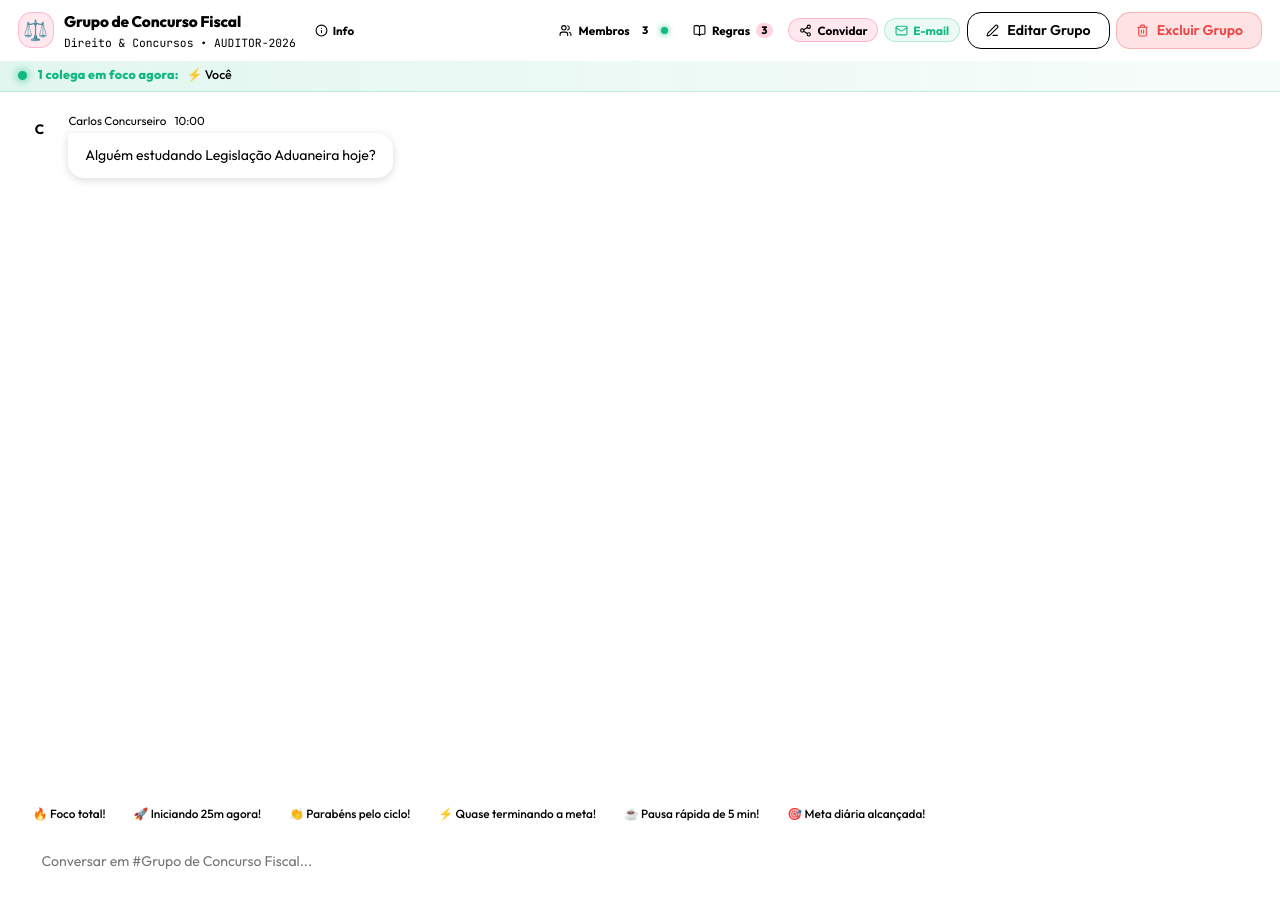
Test: Moderação de Grupos: Regras, Admin, Convite por E-mail, Edição e Remoção de Membros › deve abrir o modal de Regras do Grupo e listar todas as regras configuradas
Click the button "Regras 3": coordinates (733, 30) x1=684 y1=19 x2=783 y2=41
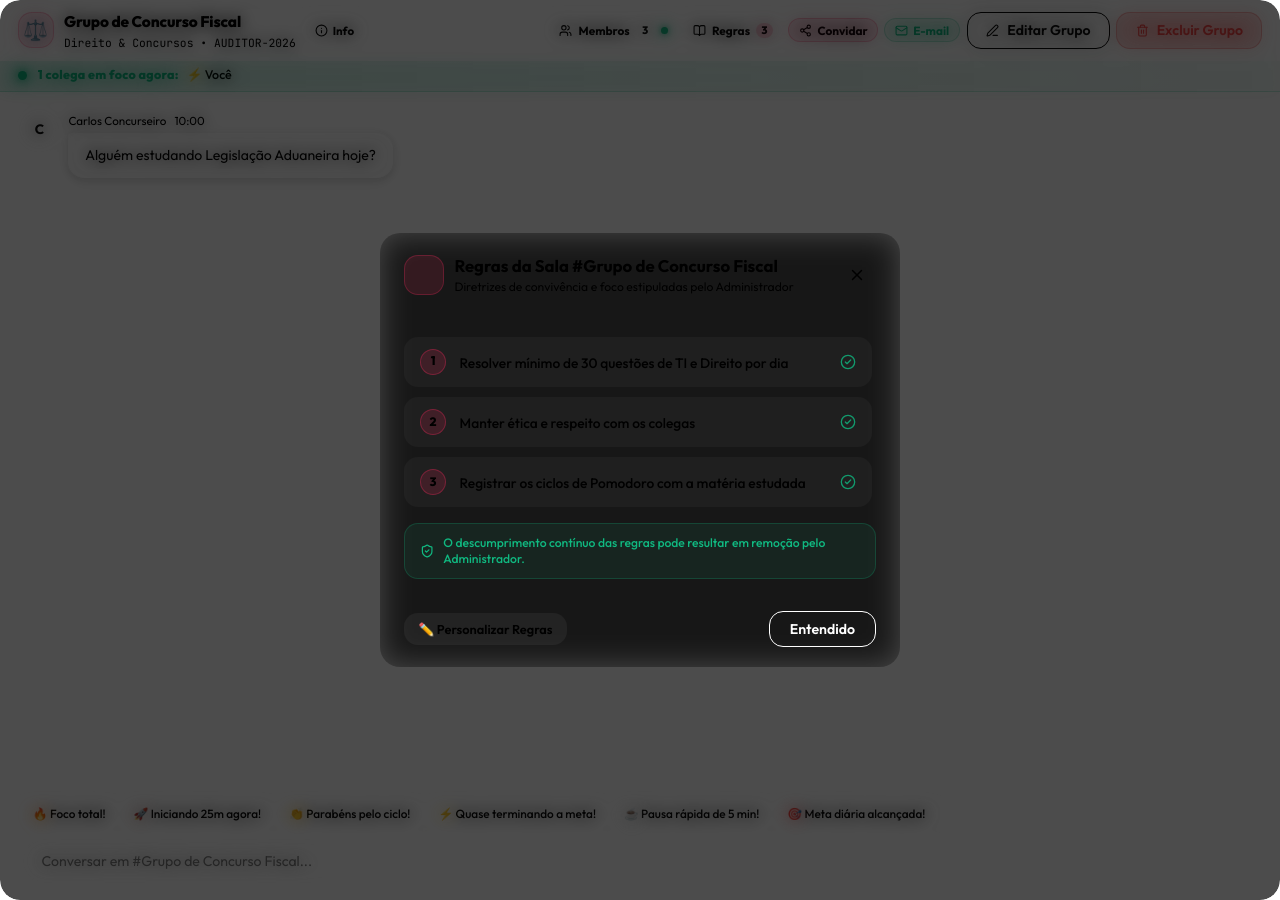
Expected: the heading "Regras da Sala #Grupo de Concurso Fiscal" is shown, x1=454 y1=253 x2=794 y2=278
Expected: the text "Resolver mínimo de 30 questões de TI e Direito por dia" is shown, x1=460 y1=354 x2=788 y2=372
Expected: the text "Manter ética e respeito com os colegas" is shown, x1=460 y1=414 x2=695 y2=432
// Fecha o modal
Click the button "Entendido": coordinates (822, 629) x1=769 y1=611 x2=876 y2=647
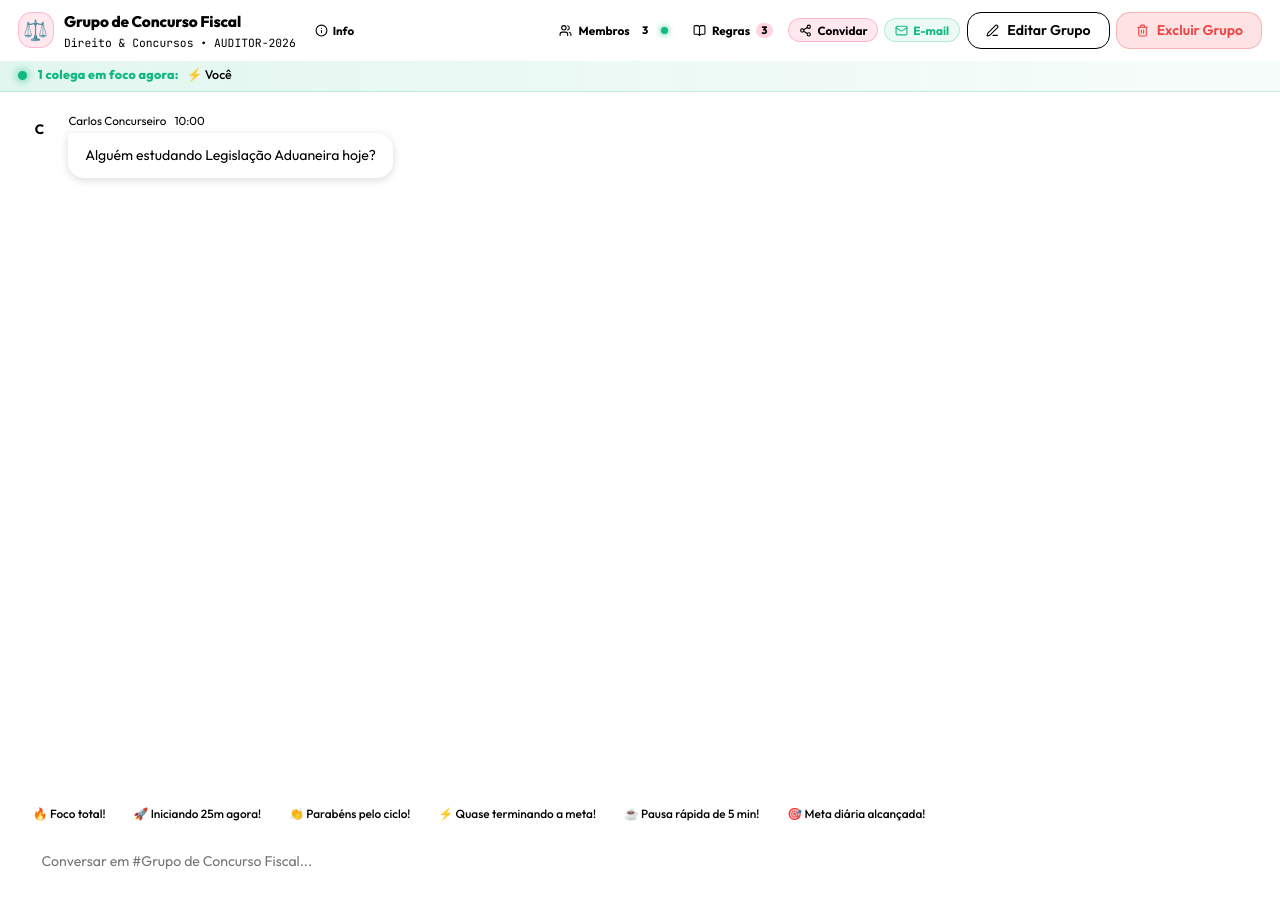
Expected: the heading "Regras da Sala #Grupo de Concurso Fiscal" is gone
